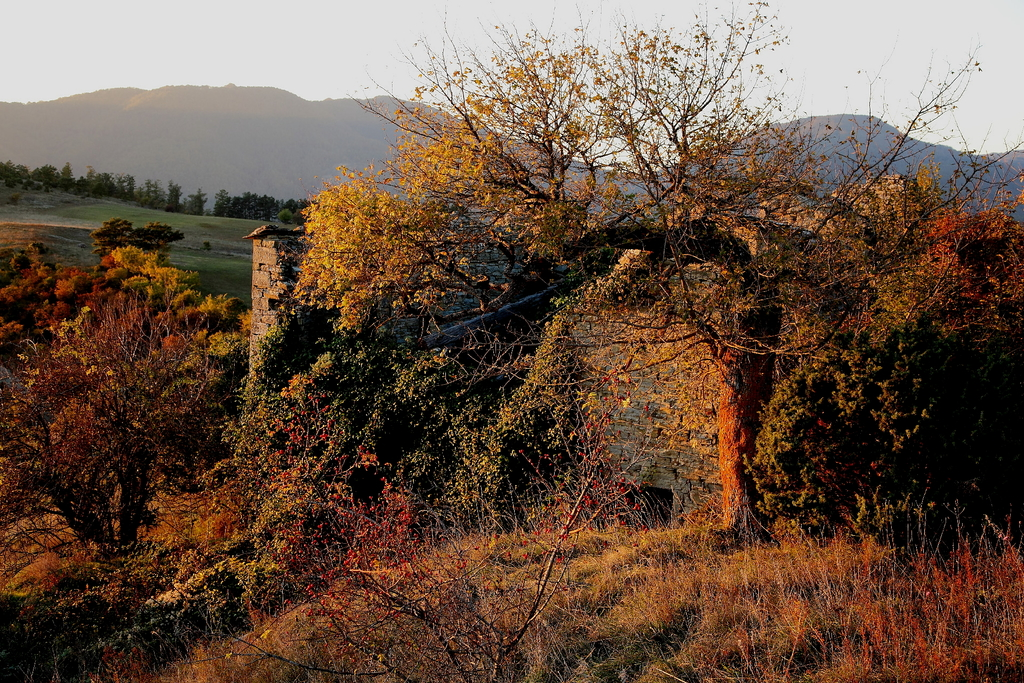Tree: (7, 55, 1023, 670)
